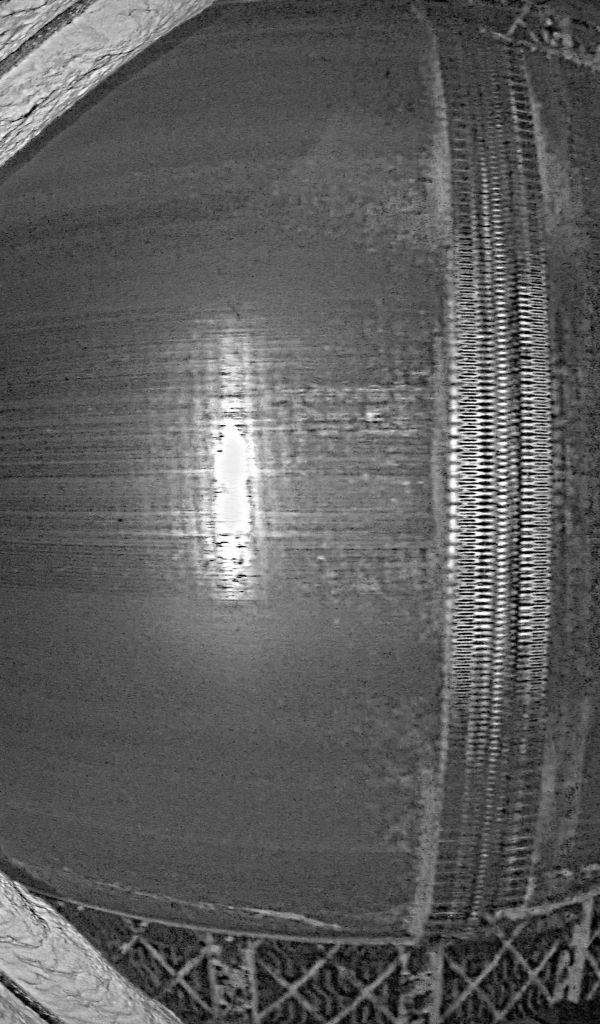splice: (418, 15, 553, 939)
